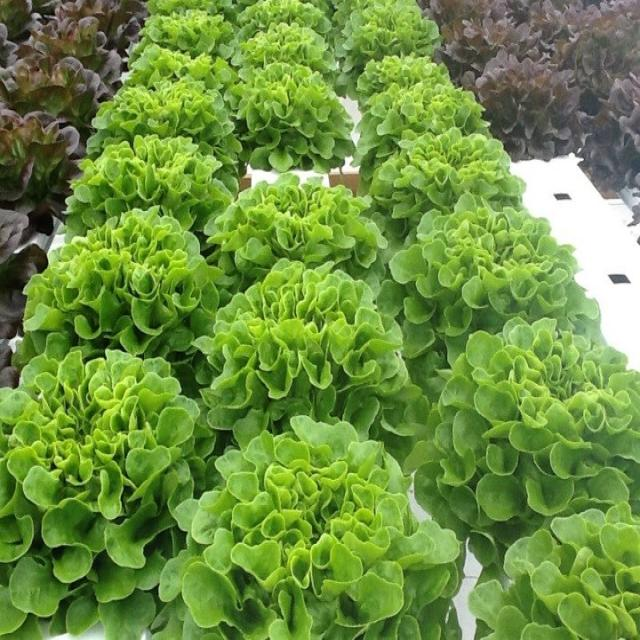lettuce: (160, 416, 460, 639), (0, 339, 210, 638), (408, 319, 639, 565), (196, 259, 424, 458), (390, 196, 599, 362), (19, 209, 218, 383), (470, 504, 639, 639), (205, 175, 385, 291), (368, 128, 524, 244), (66, 136, 237, 237), (354, 76, 487, 191), (88, 76, 240, 164), (236, 63, 354, 173), (474, 51, 581, 159), (0, 108, 81, 239), (336, 0, 439, 98), (0, 54, 106, 137), (19, 17, 122, 93), (581, 74, 639, 190), (232, 23, 335, 82), (0, 209, 47, 338), (126, 44, 239, 94), (356, 54, 448, 111), (132, 10, 233, 61), (56, 0, 147, 56), (238, 0, 330, 41), (147, 0, 238, 22), (0, 0, 33, 40), (0, 343, 19, 387), (0, 23, 16, 67)
